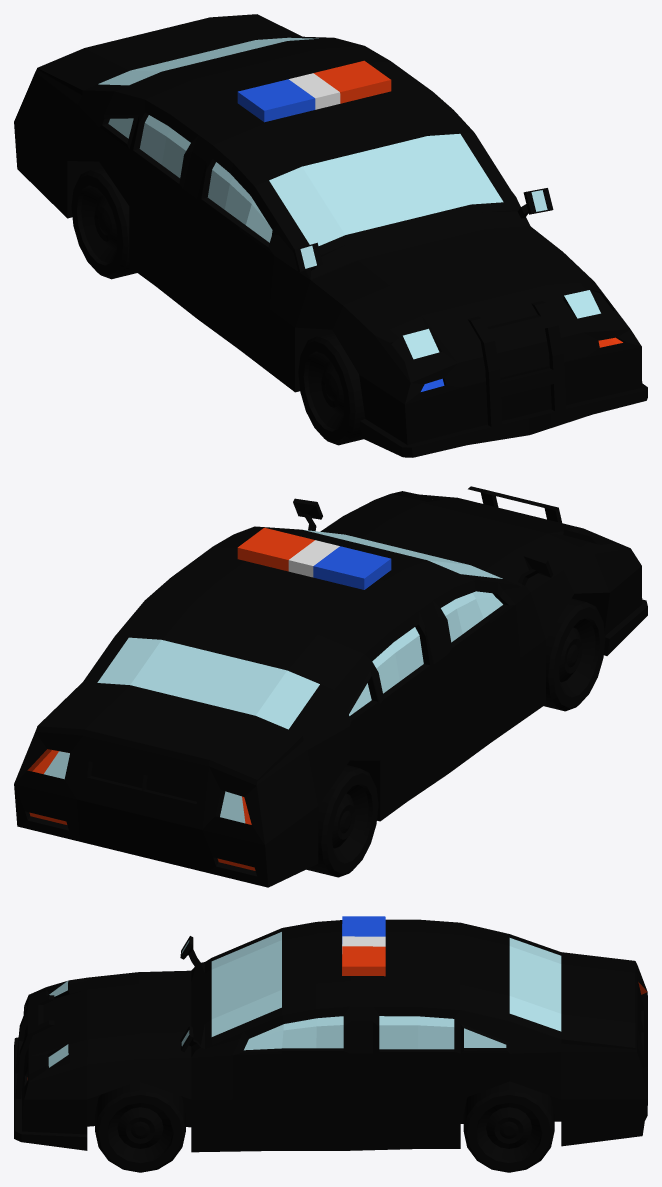
The model's file is police3.fbx.
3 renders of one model, top to bottom at view 1: azimuth 30°, elevation 25°; view 2: azimuth 150°, elevation 25°; view 3: azimuth 270°, elevation 25°, orthographic. The views are drawn at different scales.
Parts seen in each view (by area): view 1: Police car, Right_front_wheel, Right_back_wheel; view 2: Police car, Right_back_wheel, Right_front_wheel; view 3: Police car, Left_front_wheel, Left_back_wheel.
Boxes of the visible parts, bbox=[...] form: Police car: bbox=[14, 14, 647, 457]; Right_front_wheel: bbox=[298, 332, 365, 445]; Right_back_wheel: bbox=[71, 167, 136, 279]; Police car: bbox=[14, 486, 647, 887]; Right_back_wheel: bbox=[306, 765, 378, 877]; Right_front_wheel: bbox=[544, 598, 605, 711]; Police car: bbox=[14, 916, 647, 1152]; Left_front_wheel: bbox=[95, 1081, 185, 1172]; Left_back_wheel: bbox=[463, 1081, 554, 1172].
Size of the model in its own units: 1.97 by 1.66 by 5.23.
